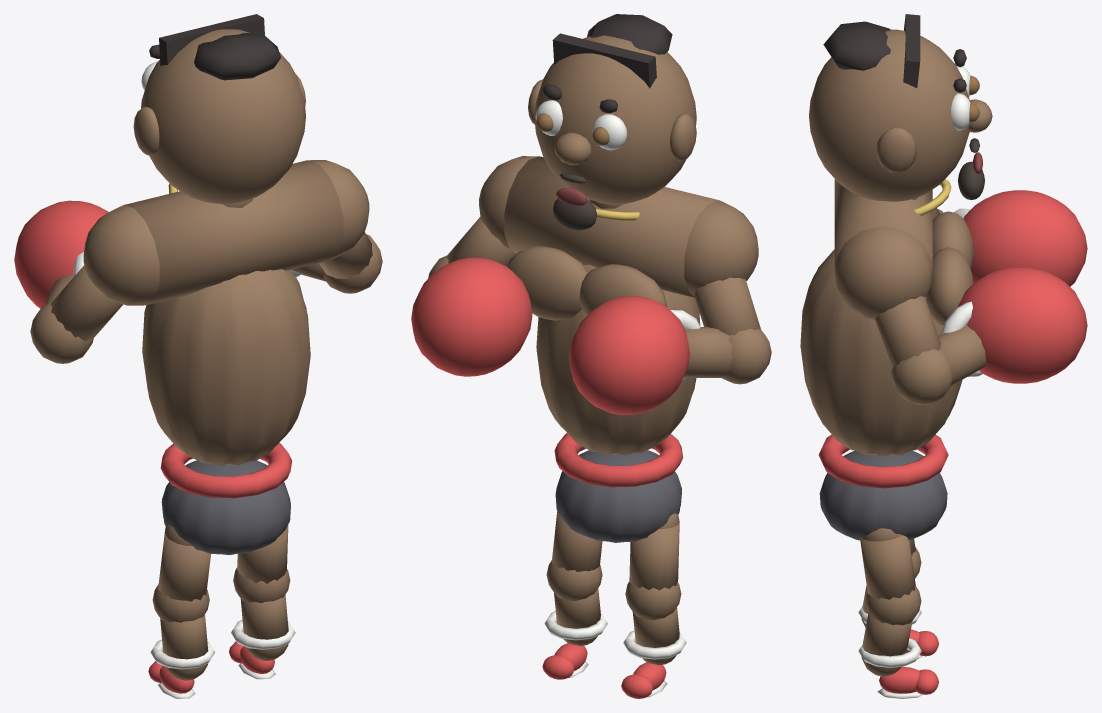
The model's file is P3_Kenny.fbx.
The picture shows the model from 3 angles, left to right: view 1: azimuth 30°, elevation 25°; view 2: azimuth 150°, elevation 25°; view 3: azimuth 270°, elevation 25°; orthographic projection. The views are drawn at different scales.
Parts seen in each view (by area): view 1: Torso, Head, ArmL, LegL, LegR, ArmR; view 2: Torso, Head, ArmL, ArmR, LegL, LegR; view 3: Torso, Head, ArmR, ArmL, LegR, LegL.
Boxes of the visible parts, x1,y1,x2,y2 form: Torso: (83, 160, 369, 555); Head: (133, 14, 305, 204); ArmL: (14, 200, 122, 363); LegL: (148, 524, 215, 698); LegR: (229, 525, 295, 679); ArmR: (290, 232, 382, 293); Torso: (479, 156, 758, 542); Head: (528, 14, 696, 230); ArmL: (568, 277, 771, 414); ArmR: (411, 217, 532, 376); LegL: (621, 513, 686, 698); LegR: (542, 511, 607, 679); Torso: (800, 179, 973, 540); Head: (809, 14, 992, 201); ArmR: (875, 267, 1087, 405); ArmL: (932, 190, 1087, 286); LegR: (858, 528, 938, 698); LegL: (858, 539, 938, 658).
Size of the model in its own units: 120 by 219 by 88.29.
